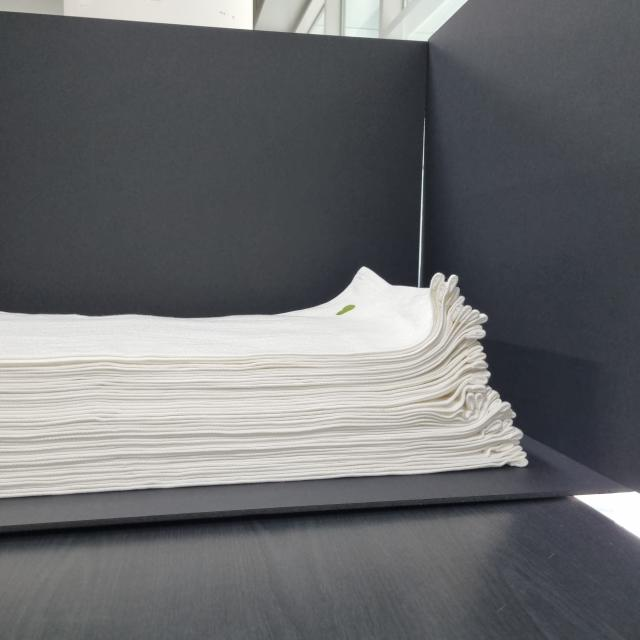not_50count_towel: (0, 278, 540, 480)
